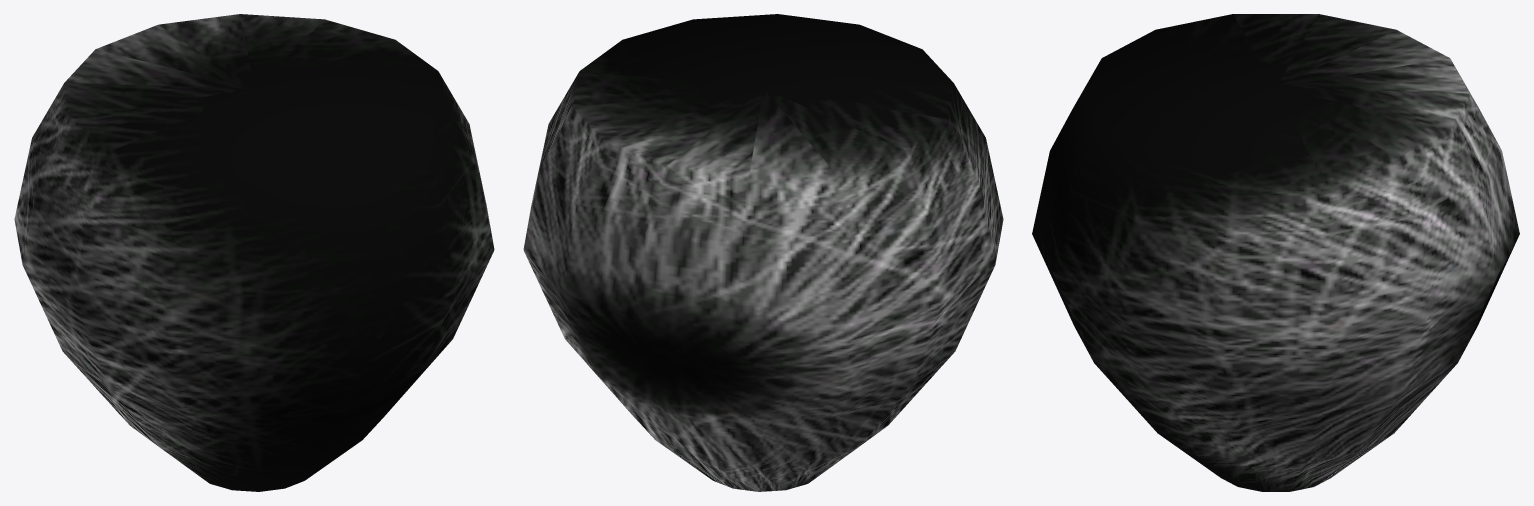
File: INST_SB_PLATFORM_COCOON.fbx
3 renders of one model, left to right at view 1: azimuth 30°, elevation 25°; view 2: azimuth 150°, elevation 25°; view 3: azimuth 270°, elevation 25°, orthographic.
Parts seen in each view (by area): view 1: INST_SB_PLATFORM_COCOON; view 2: INST_SB_PLATFORM_COCOON; view 3: INST_SB_PLATFORM_COCOON.
Boxes of the visible parts, x1,y1,x2,y2 form: INST_SB_PLATFORM_COCOON: (14, 14, 494, 491); INST_SB_PLATFORM_COCOON: (523, 14, 1003, 491); INST_SB_PLATFORM_COCOON: (1032, 14, 1519, 491).
Size of the model in its own units: 15745 by 14612 by 16149.
Materials: 1 (1 with a texture image).
